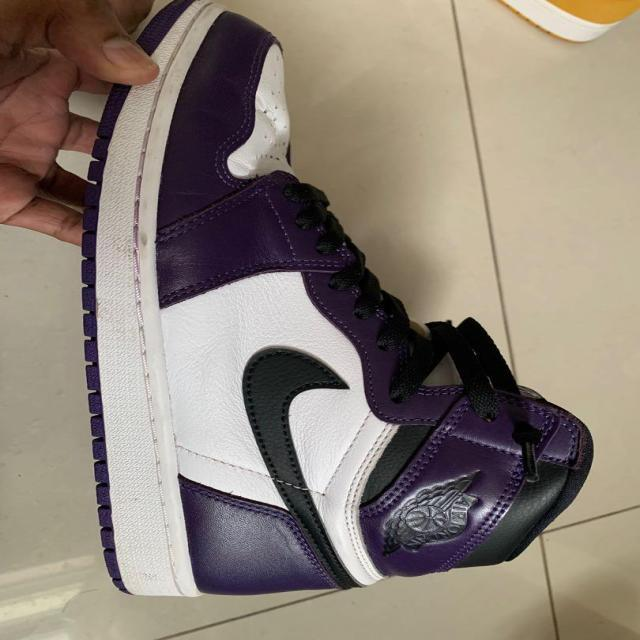nike original jordan 1: (85, 0, 596, 599)
